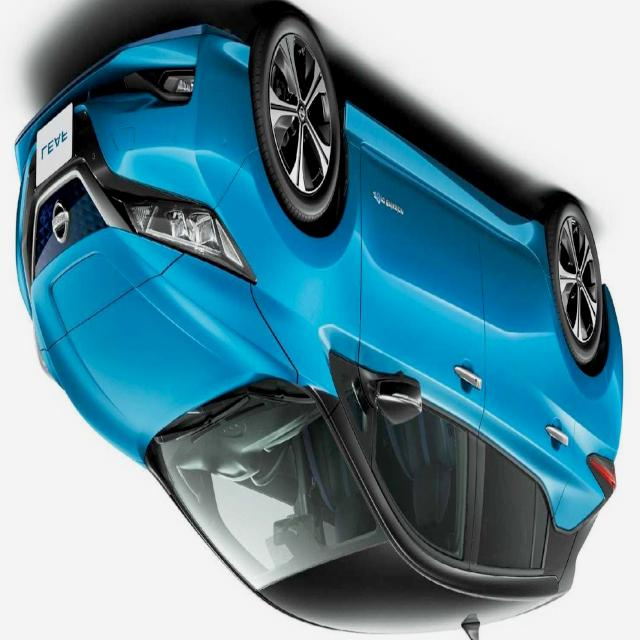blue: (21, 15, 622, 640)
